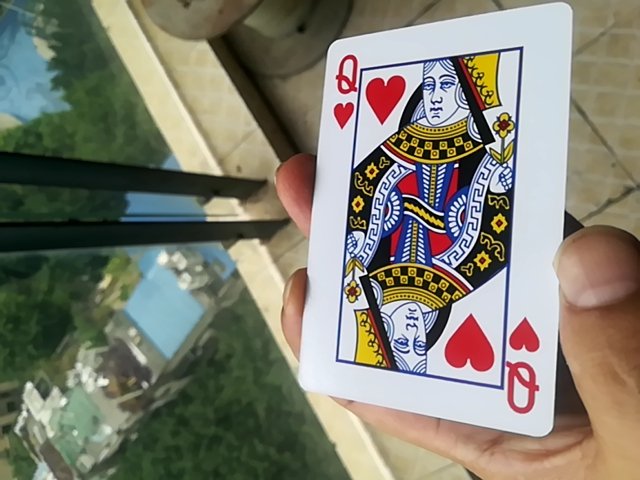hx q: (298, 10, 578, 432)
